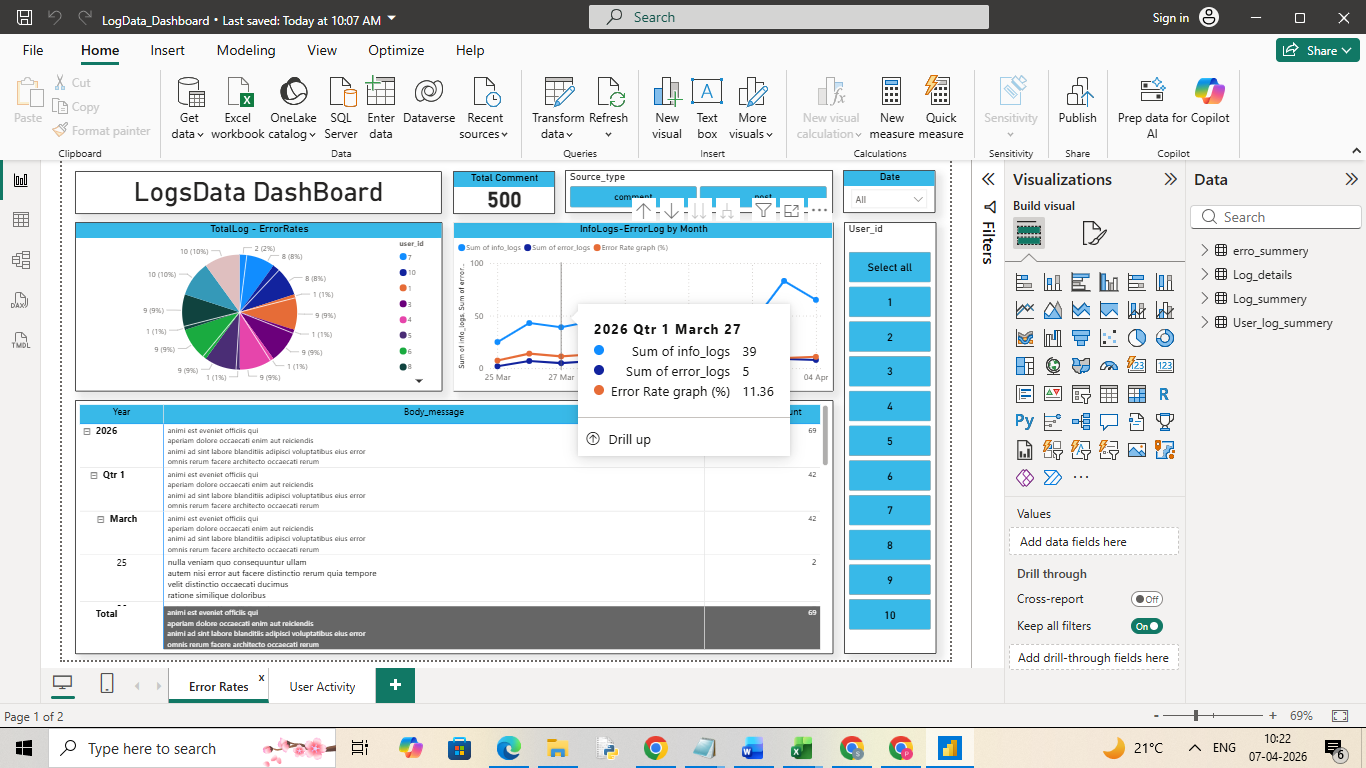

What the dashboard file says about the page in this screenshot:
{"tool":"powerbi","page":{"name":"Error Rates","canvas":[1280,720],"ordinal":0},"visuals":[{"type":"advancedSlicerVisual","title":"Source_type","fields":{"Values":["Log_details.source_type"]},"box":[724.3,14.4,385.9,61.9],"z":0},{"type":"pieChart","title":"TotalLog - ErrorRates","fields":{"Category":["User_log_summery.user_id"],"Y":["Sum(User_log_summery.error_logs)","Sum(User_log_summery.info_logs)"]},"box":[18.5,89,529.1,243.6],"z":1000},{"type":"lineChart","title":"InfoLogs-ErrorLog by Month","fields":{"Y":["Sum(Log_summery.info_logs)","Sum(Log_summery.error_logs)","Log_details.Error Rate graph (%)"],"Category":["Log_summery.log_date.Variation.Date Hierarchy.Year","Log_summery.log_date.Variation.Date Hierarchy.Quarter","Log_summery.log_date.Variation.Date Hierarchy.Month","Log_summery.log_date.Variation.Date Hierarchy.Day"]},"box":[562.7,89,547.6,243.6],"z":2000},{"type":"advancedSlicerVisual","title":"User_id","fields":{"Values":["User_log_summery.user_id"]},"box":[1125.5,89,132.7,621.5],"z":3000},{"type":"pivotTable","fields":{"Rows":["erro_summery.log_date.Variation.Date Hierarchy.Year","erro_summery.log_date.Variation.Date Hierarchy.Quarter","erro_summery.log_date.Variation.Date Hierarchy.Month","erro_summery.log_date.Variation.Date Hierarchy.Day"],"Values":["Min(erro_summery.body_clean)","Sum(erro_summery.error_count)"]},"box":[18.5,346,1091.9,366.2],"z":4000},{"type":"slicer","title":"Date","fields":{"Values":["Log_summery.log_date"]},"box":[1125,15,133.3,61.7],"z":5000},{"type":"card","title":"Total Comment","fields":{"Values":["Log_details.comment Per User"]},"box":[563,15.8,146.9,61.9],"z":6000},{"type":"textbox","box":[18.7,15.8,528.5,61.9],"z":7000}]}

Visuals, with their boxes on the page's 1280x720 design canvas (x1, y1, x2, y2). These are canvas units, not pixel positions in the 1366x768 screenshot, which may show the page scaled, cropped or inside an application window:
"Source_type" advancedSlicerVisual: 724 14 1110 76
"TotalLog - ErrorRates" pieChart: 18 89 548 333
"InfoLogs-ErrorLog by Month" lineChart: 563 89 1110 333
"User_id" advancedSlicerVisual: 1126 89 1258 710
pivotTable - erro_summery.log_date.Variation.Date Hierarchy.Year x erro_summery.log_date.Variation.Date Hierarchy.Quarter: 18 346 1110 712
"Date" slicer: 1125 15 1258 77
"Total Comment" card: 563 16 710 78
textbox: 19 16 547 78
